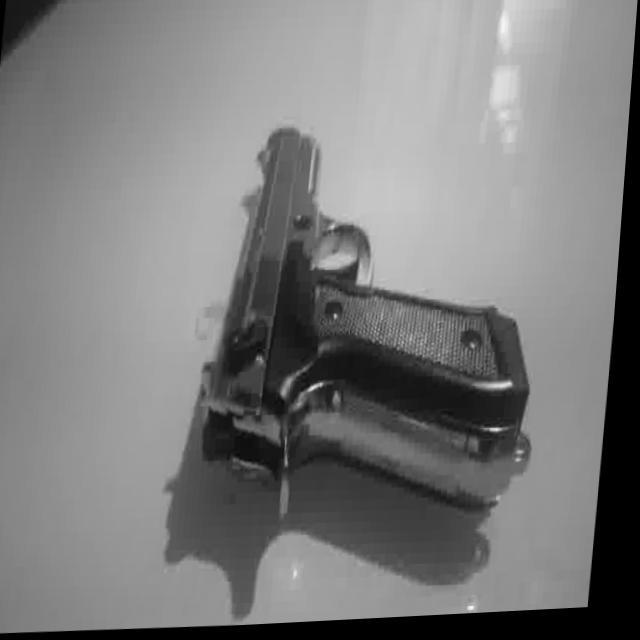weapon: (192, 115, 564, 528)
